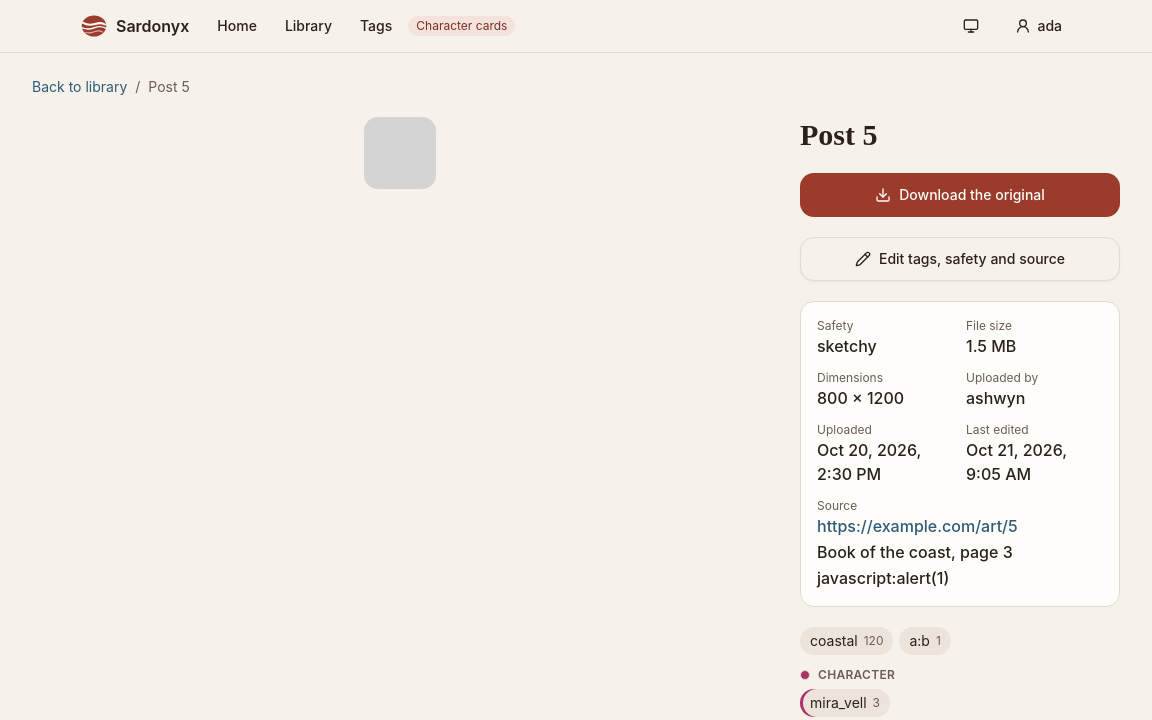
Test case: what is offered › says so when the rank cannot create tags
The width and height of the screenshot is (1152, 720).
Click the button "Edit tags, safety and source" at (960, 259), box [800,237,1120,281]
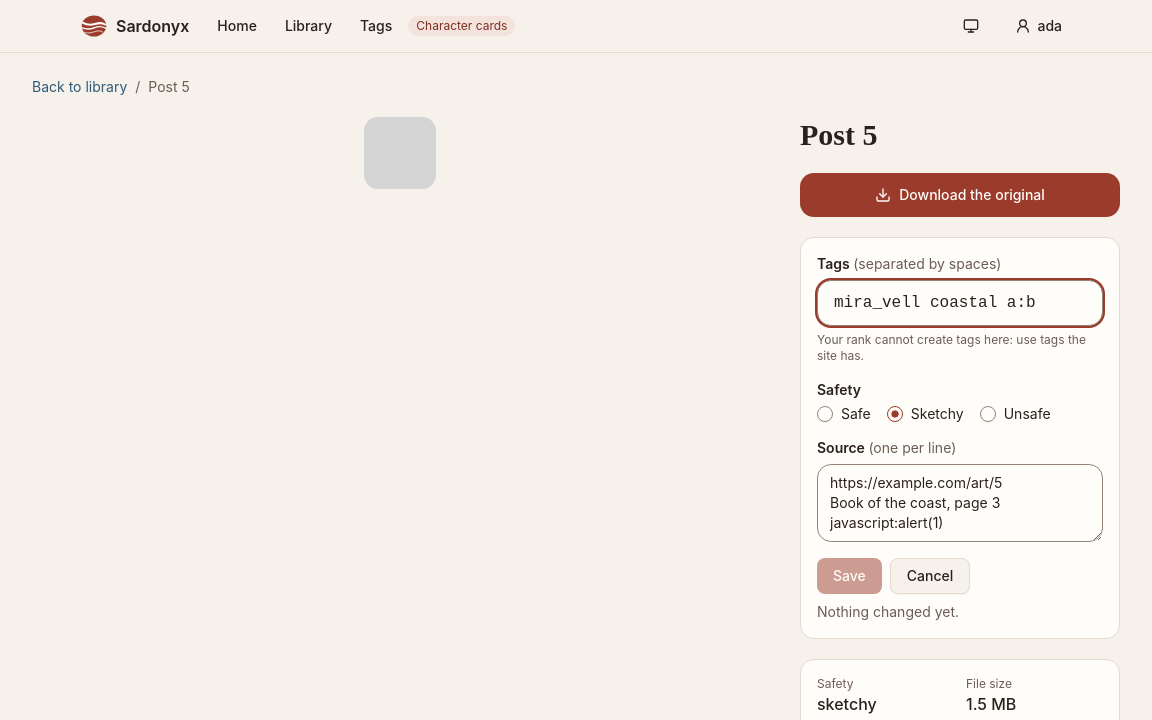
Result: the form named "Edit post 5" shows "Your rank cannot create tags here" at [817,332,1086,363]
